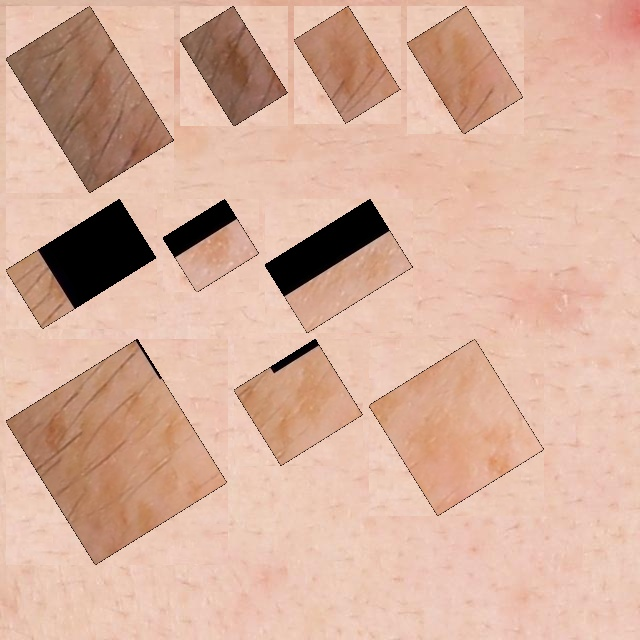melasma: (17, 350, 216, 553), (17, 17, 163, 181), (380, 350, 533, 504), (276, 210, 402, 322), (17, 210, 145, 318), (245, 350, 352, 454), (418, 17, 512, 123), (191, 17, 276, 115), (305, 17, 389, 112), (174, 210, 248, 281)
